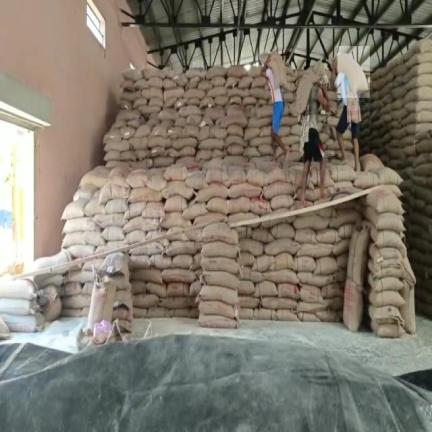Zone-Counting: (296, 62, 329, 205), (333, 53, 367, 169), (262, 53, 288, 157)
